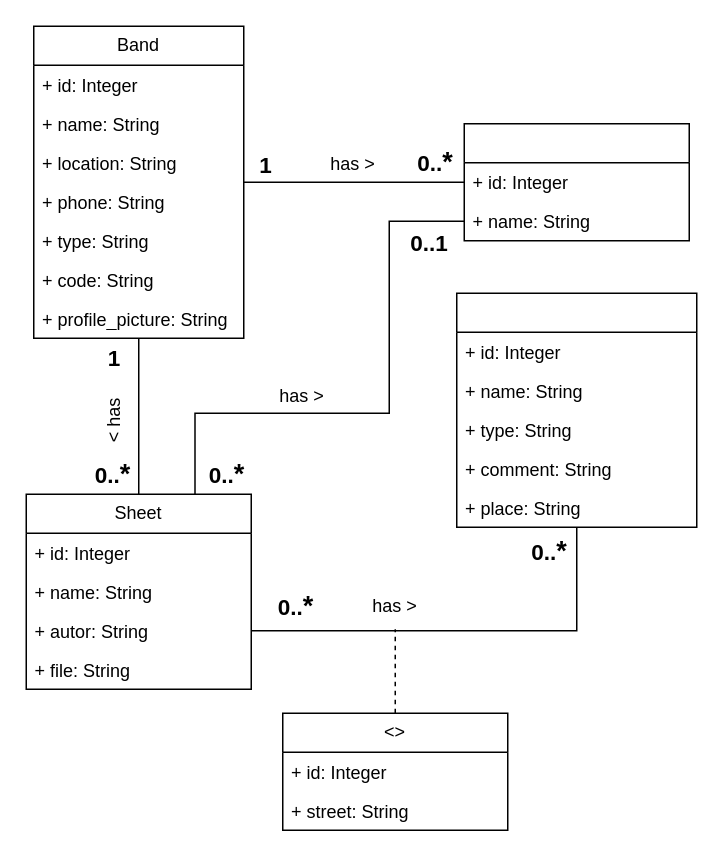
Some shapes in this 723 by 861 pixel diagram are drawn without their labels. Each missing label, with the box of its shape:
Category: (463, 122, 689, 241)
Performance: (455, 292, 697, 527)
